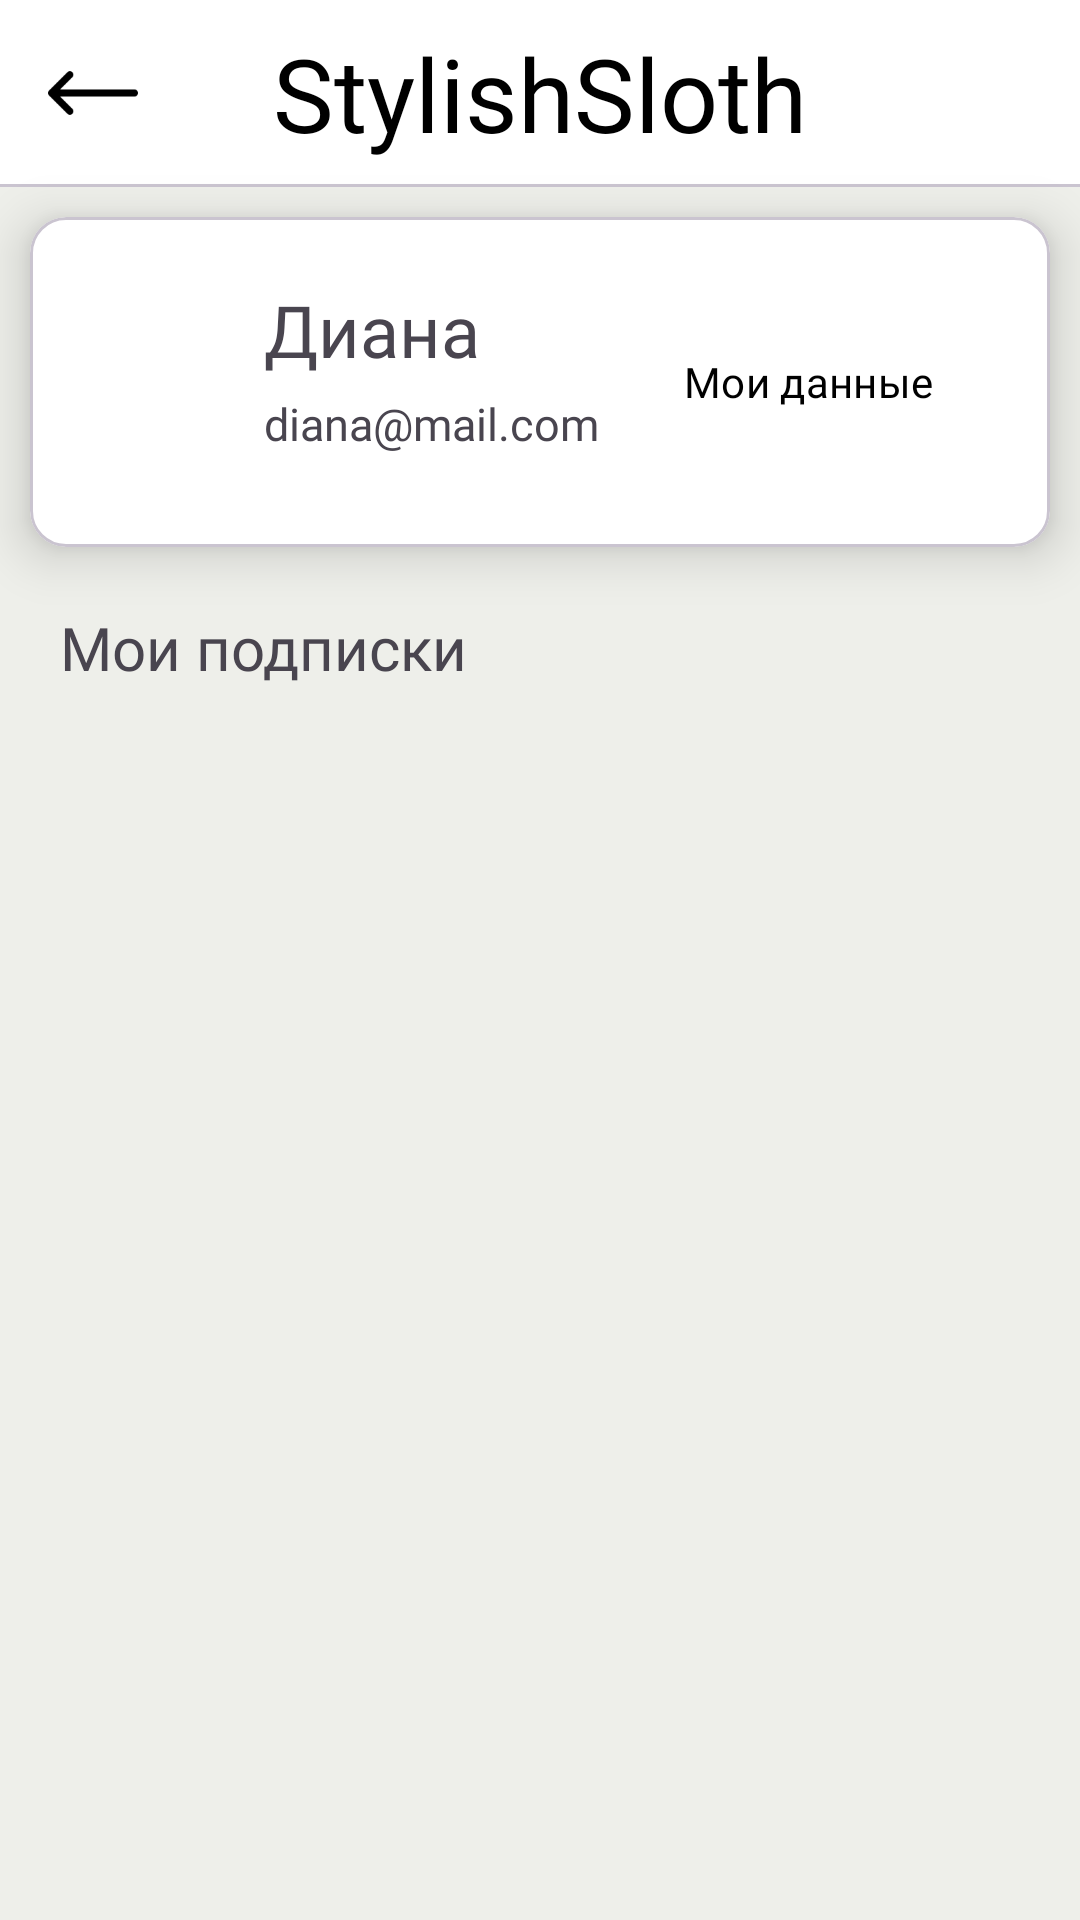

Icon click points for this 1080px x 1920px phone screenshot, format (x,y):
left arrow: (93,93)
